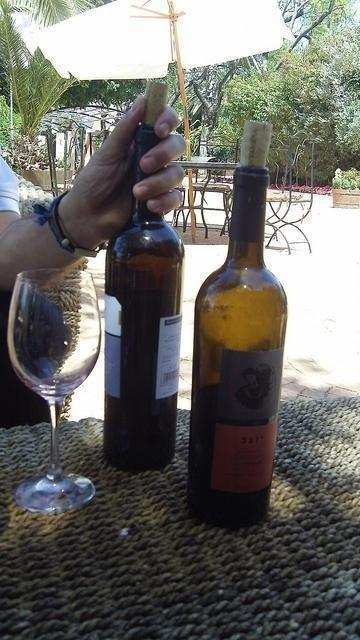bottle-glass: (189, 164, 290, 527), (104, 134, 186, 470)
glass-wine: (4, 262, 100, 513)
